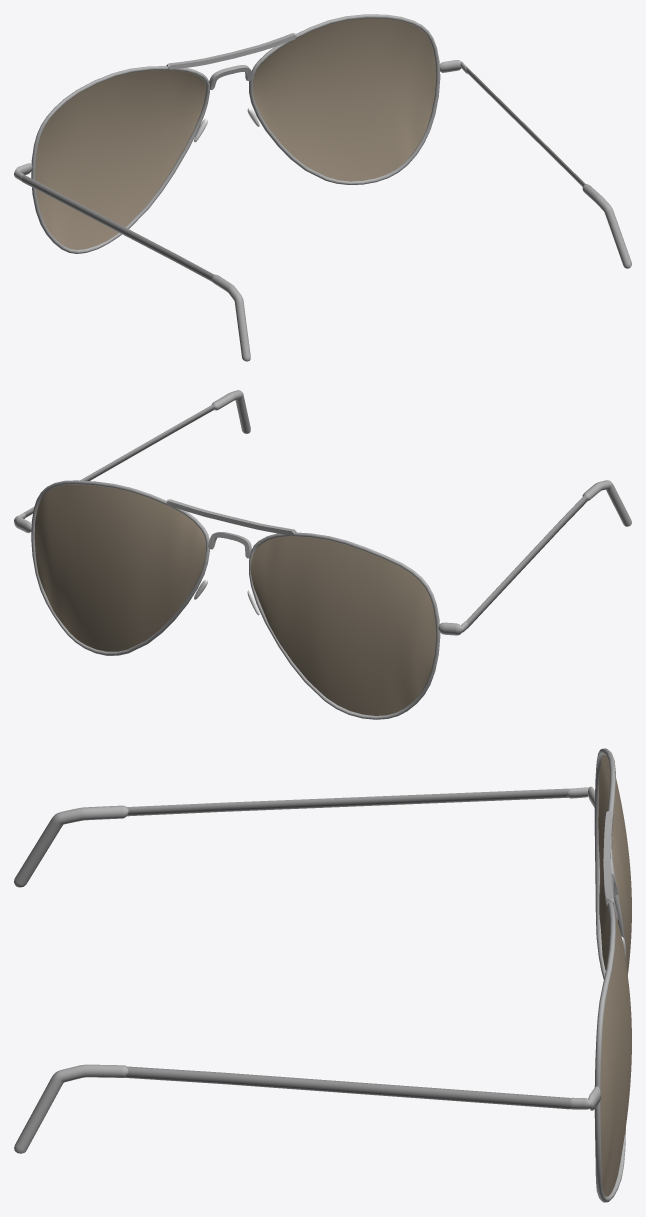
File: AviatorSunglasses.glb
3 views of the same model, one above another, from view 1: azimuth 30°, elevation 25°; view 2: azimuth 150°, elevation 25°; view 3: azimuth 270°, elevation 25° (orthographic). The views are drawn at different scales.
Parts seen in each view (by area): view 1: c0001.61407.Mirror, c0001.61407, i0000.95844.Mirror, i0000.95844, s0007.16308, s0008.66276, s0008.66276.Mirror, s0007.16308.Mirror, s0002.84528, s0002.84528.Mirror; view 2: c0001.61407, c0001.61407.Mirror, i0000.95844, i0000.95844.Mirror, s0007.16308, s0007.16308.Mirror, s0008.66276, s0008.66276.Mirror, s0002.84528.Mirror, s0002.84528; view 3: c0001.61407.Mirror, s0007.16308.Mirror, s0007.16308, c0001.61407, i0000.95844.Mirror, s0008.66276.Mirror, s0008.66276, i0000.95844.
Part boxes in pixels (x1,y1,x2,y2): c0001.61407.Mirror: (253, 18, 436, 181); c0001.61407: (35, 70, 205, 249); i0000.95844.Mirror: (249, 14, 440, 184); i0000.95844: (31, 66, 209, 253); s0007.16308: (21, 174, 214, 281); s0008.66276: (211, 274, 250, 361); s0008.66276.Mirror: (582, 184, 631, 268); s0007.16308.Mirror: (466, 66, 585, 186); s0002.84528: (166, 52, 237, 69); s0002.84528.Mirror: (230, 33, 296, 58); c0001.61407: (250, 536, 436, 715); c0001.61407.Mirror: (34, 484, 205, 651); i0000.95844: (249, 532, 440, 719); i0000.95844.Mirror: (31, 480, 209, 655); s0007.16308: (466, 494, 587, 627); s0007.16308.Mirror: (24, 403, 214, 517); s0008.66276: (582, 480, 631, 526); s0008.66276.Mirror: (211, 390, 250, 433); s0002.84528.Mirror: (166, 499, 233, 523); s0002.84528: (231, 517, 296, 535); c0001.61407.Mirror: (600, 913, 631, 1196); s0007.16308.Mirror: (124, 1066, 571, 1109); s0007.16308: (126, 788, 570, 816); c0001.61407: (598, 754, 631, 975); i0000.95844.Mirror: (594, 902, 625, 1202); s0008.66276.Mirror: (14, 1064, 128, 1153); s0008.66276: (14, 805, 128, 887); i0000.95844: (594, 748, 626, 979).
Bounding box in the file's own units: 1.59 × 0.5863 × 1.32.
